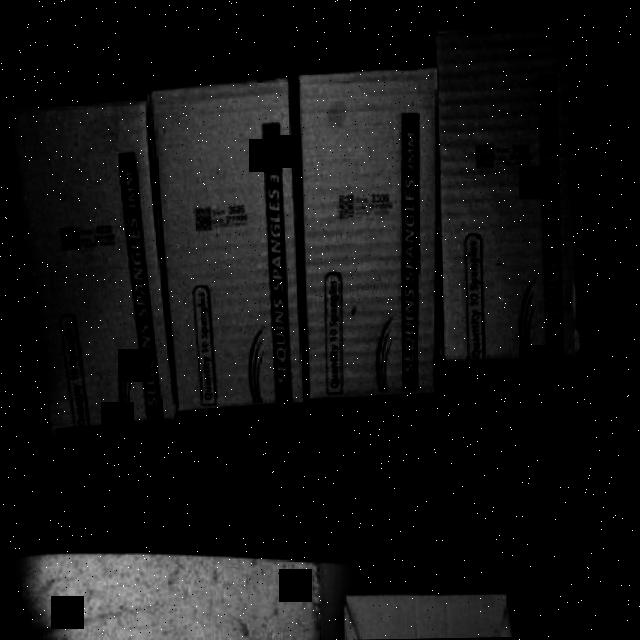box: (12, 104, 169, 432), (154, 88, 306, 406), (302, 70, 437, 405), (440, 23, 574, 356)
